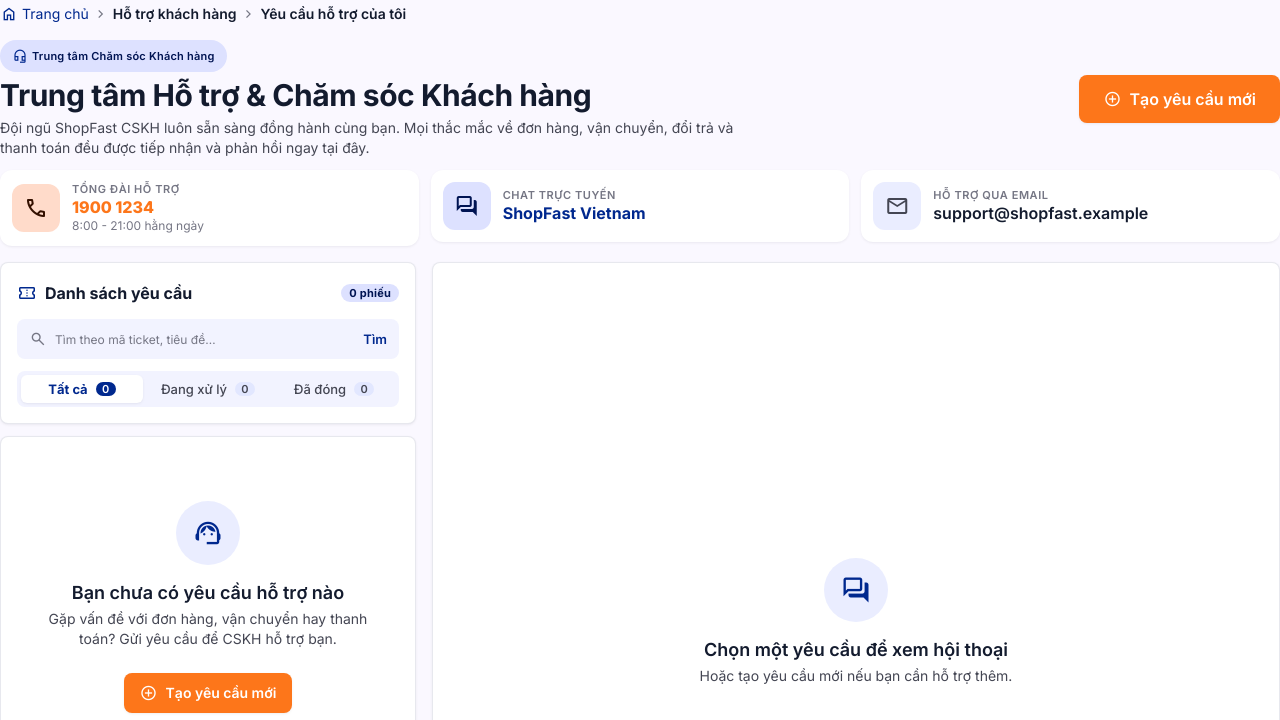
SupportPage › chưa có ticket → CTA tạo yêu cầu mở form
The width and height of the screenshot is (1280, 720).
expect the heading "Bạn chưa có yêu cầu hỗ trợ nào" is shown: met, box [72, 581, 344, 605]
expect the heading "Chọn một yêu cầu để xem hội thoại" is shown: met, box [704, 638, 1008, 662]
Click the button "Tạo yêu cầu mới" below "Bạn chưa có yêu cầu hỗ trợ nào" at coordinates (208, 693), box [124, 673, 292, 713]
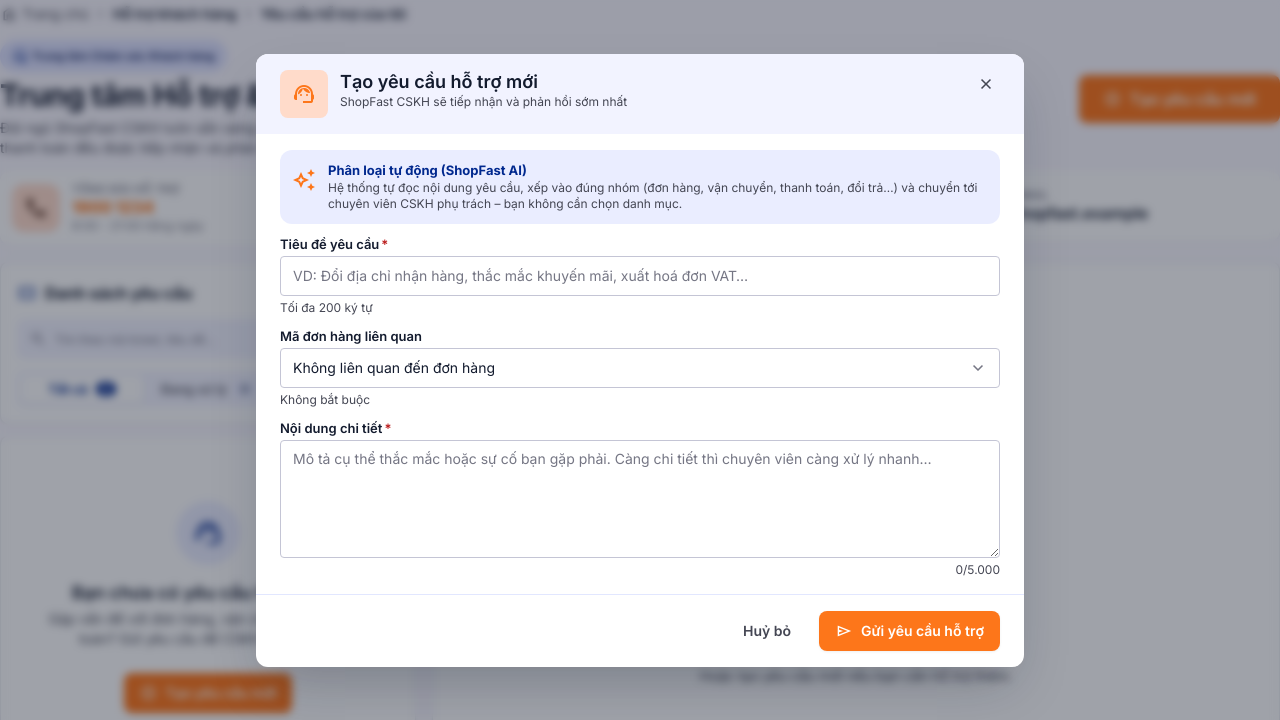
expect the dialog "Tạo yêu cầu hỗ trợ mới" is shown: met, box [256, 54, 1024, 666]
